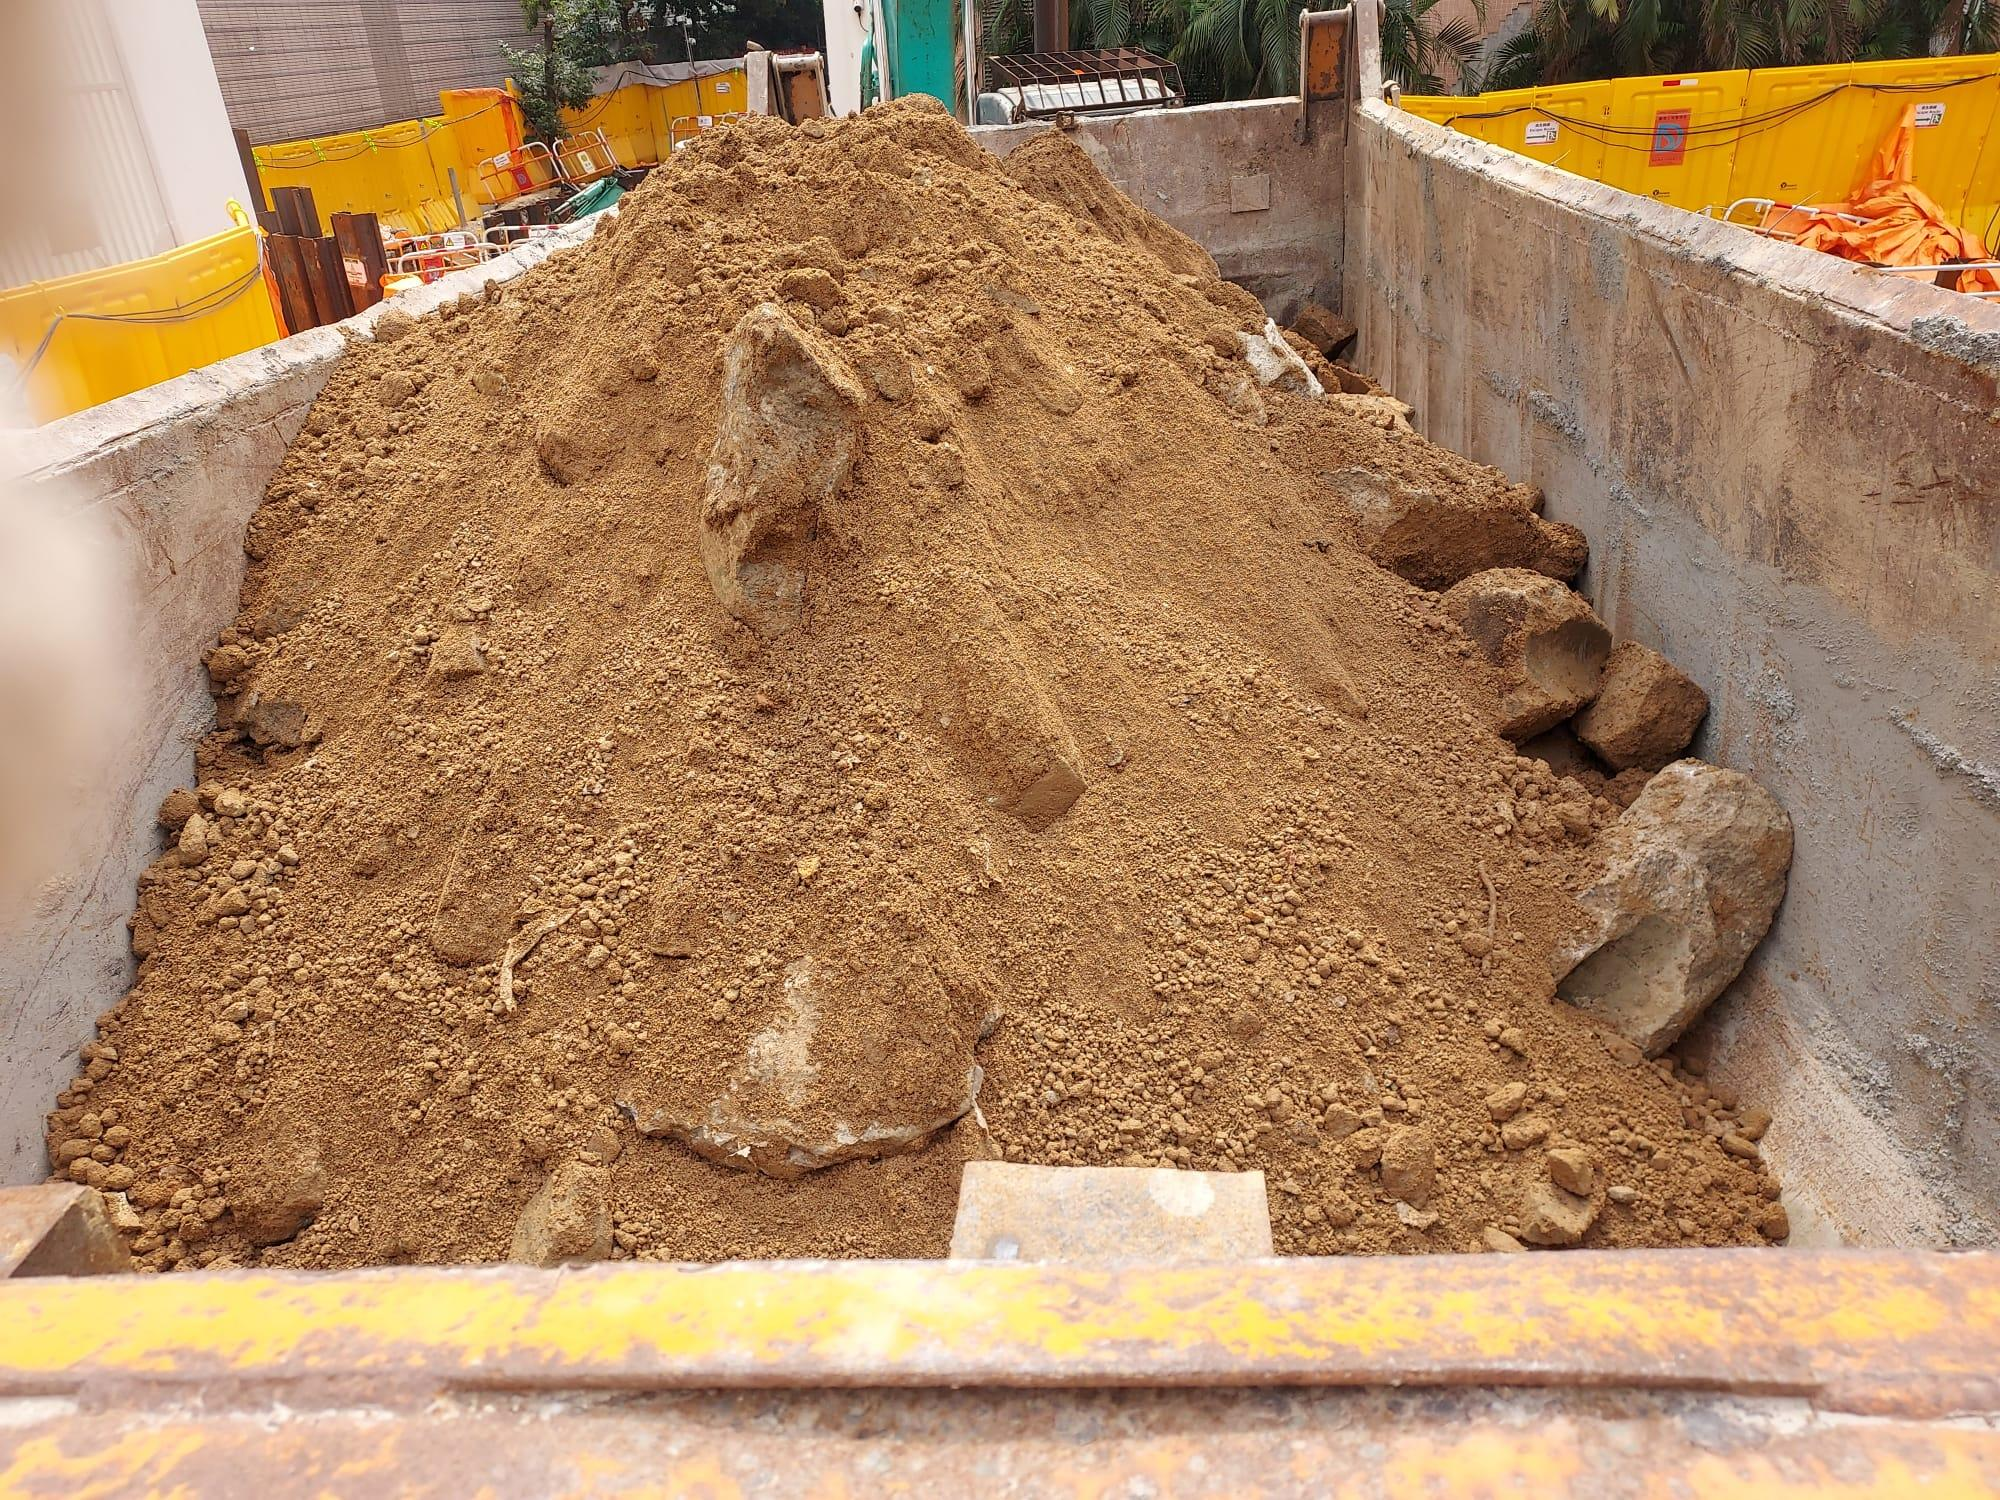dry: (58, 95, 1750, 1152)
